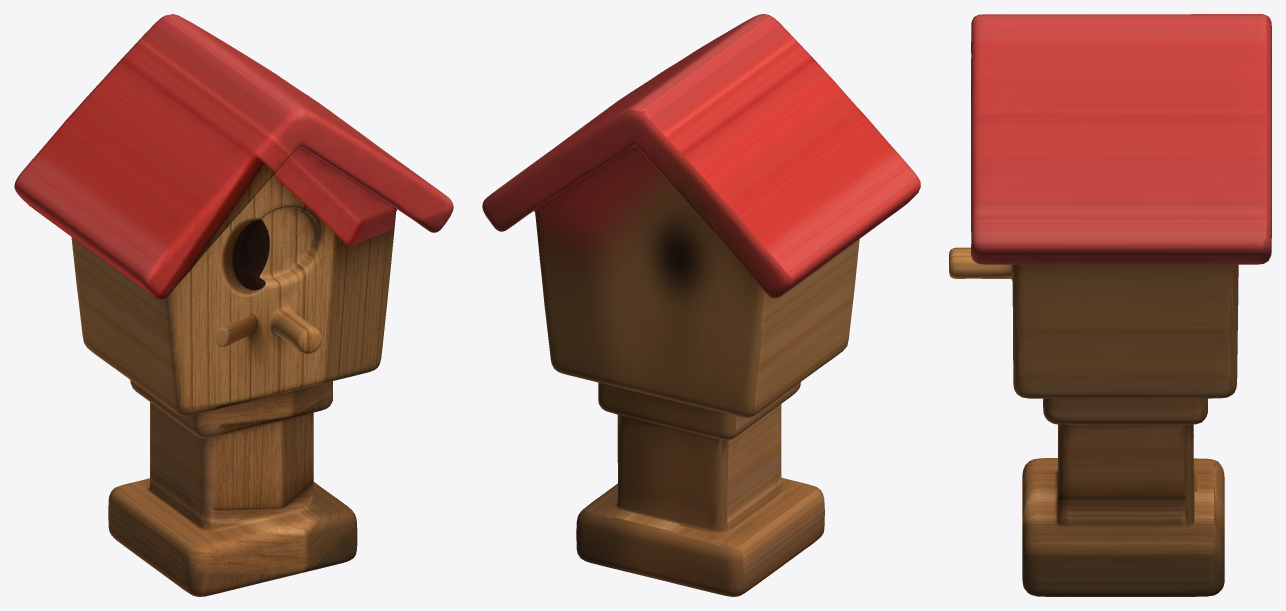
File: birdhouse.glb
3 views of the same model, side by side, from view 1: azimuth 30°, elevation 25°; view 2: azimuth 150°, elevation 25°; view 3: azimuth 270°, elevation 25° (orthographic). The views are drawn at different scales.
Visible parts, largest first — view 1: birdhouse; view 2: birdhouse; view 3: birdhouse.
Boxes of the visible parts, x1,y1,x2,y2 form: birdhouse: [14, 14, 453, 596]; birdhouse: [482, 14, 920, 596]; birdhouse: [949, 14, 1271, 596].
Bounding box in the file's own units: 9 × 13.54 × 7.35.
1 material, 1 textured.
